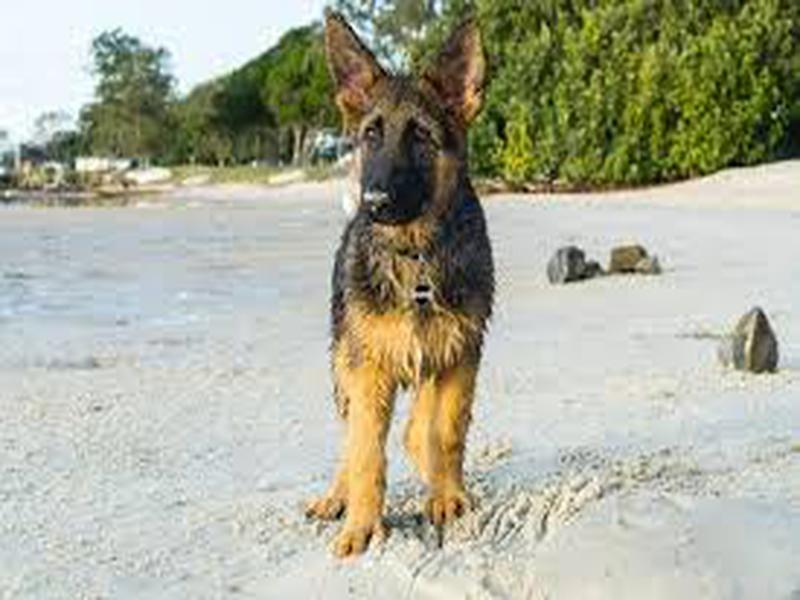dog_stand: (302, 7, 498, 563)
